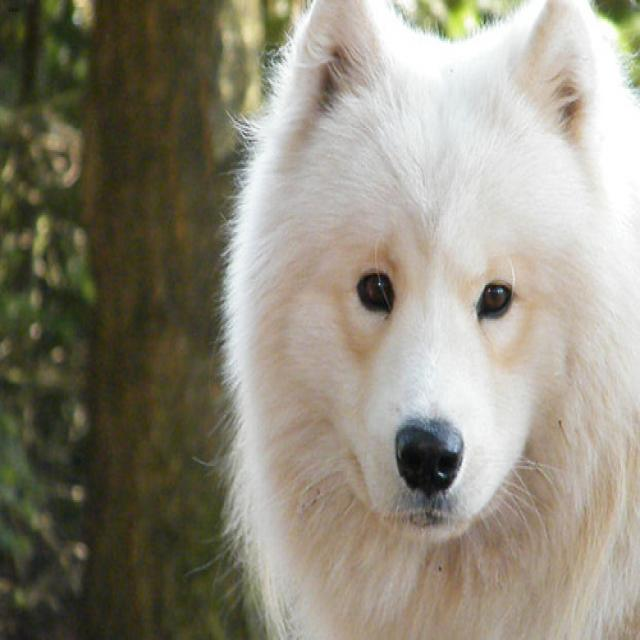dog-samoyed: (200, 2, 637, 637)
